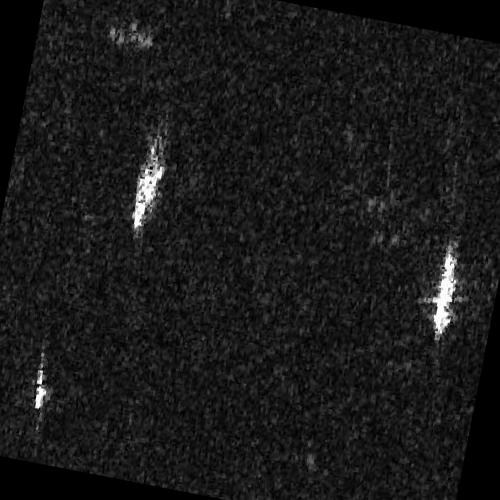ship: (132, 143, 164, 234), (433, 246, 457, 339), (33, 359, 47, 413)
